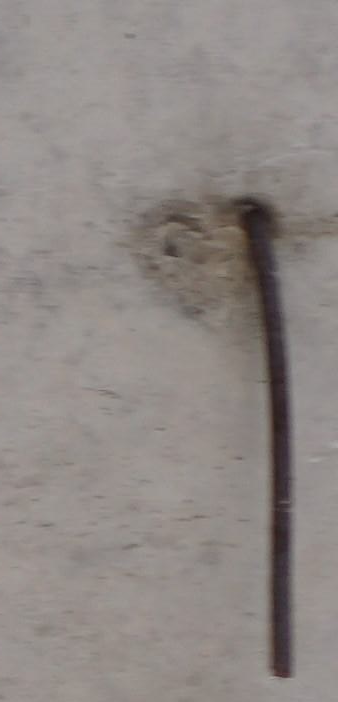Exposed reinforcement: (240, 209, 295, 679)
Spalling: (129, 200, 224, 336)
